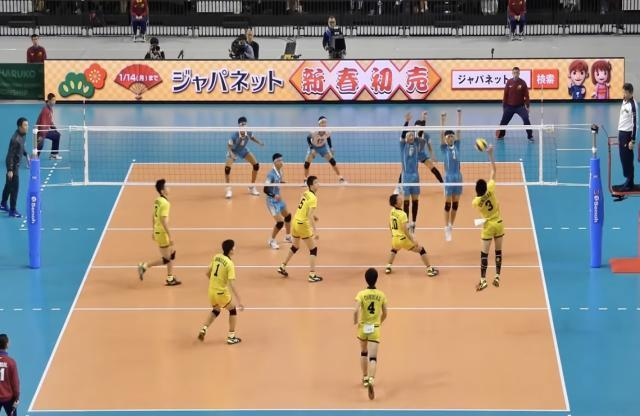spike: (466, 134, 506, 296)
